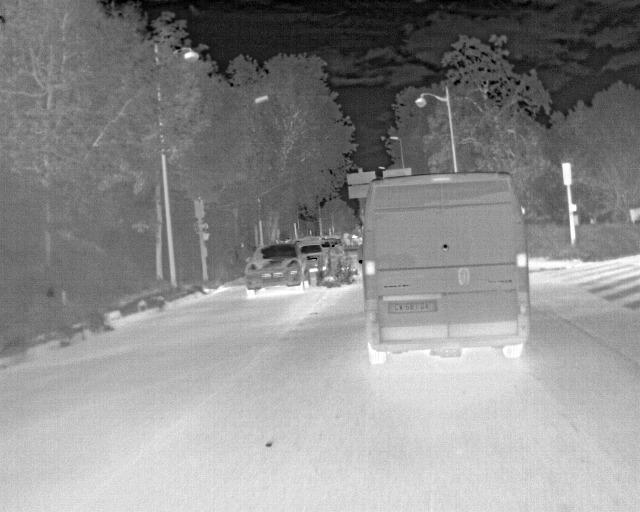car: (362, 171, 531, 365), (244, 242, 306, 298), (300, 240, 329, 273), (324, 236, 346, 260)
light: (562, 163, 572, 185), (195, 199, 205, 219)
sign: (347, 172, 376, 184), (383, 168, 412, 178), (349, 185, 369, 199)
